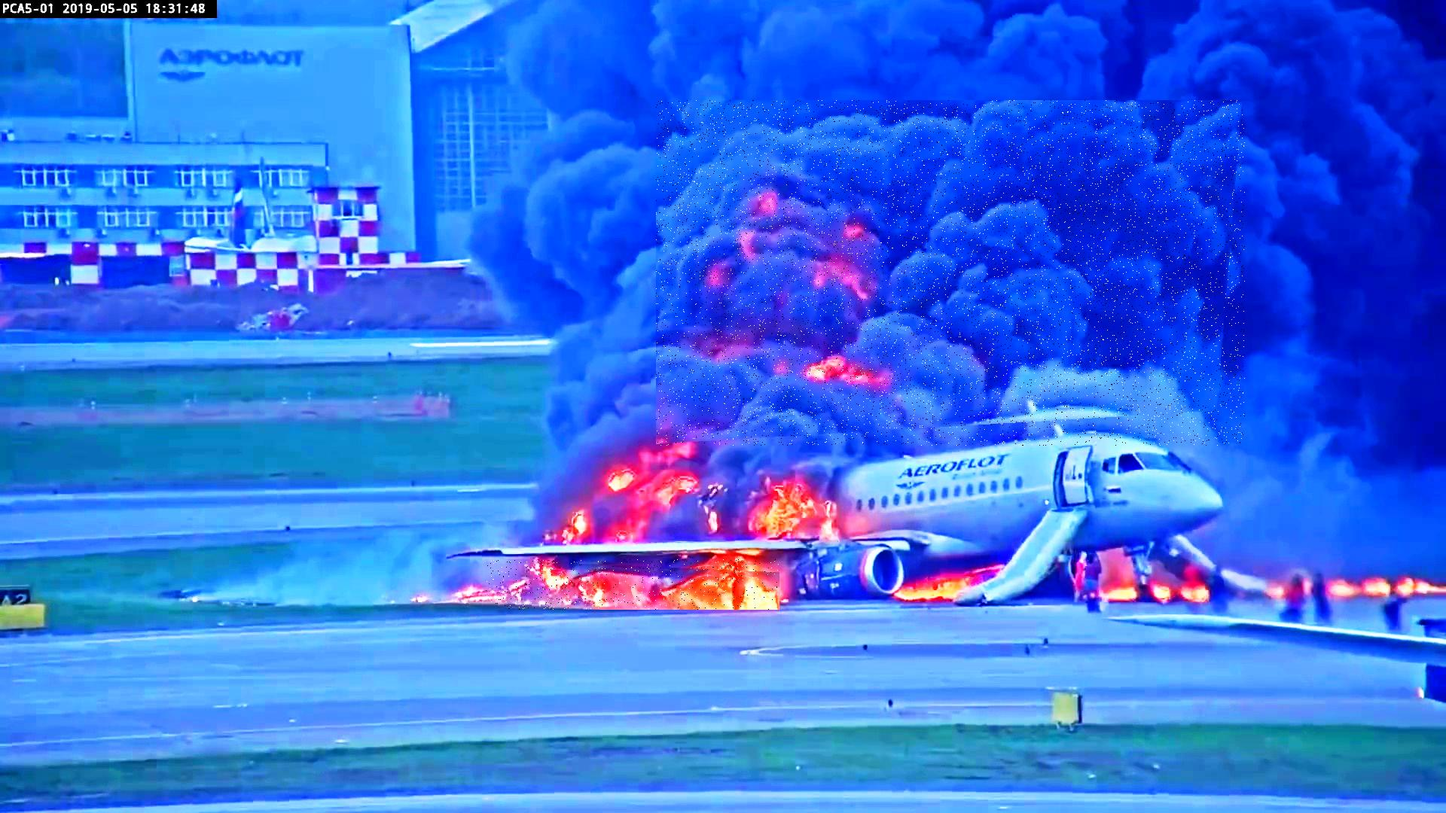fire: (486, 559, 780, 610)
smoke: (656, 100, 1245, 446)
